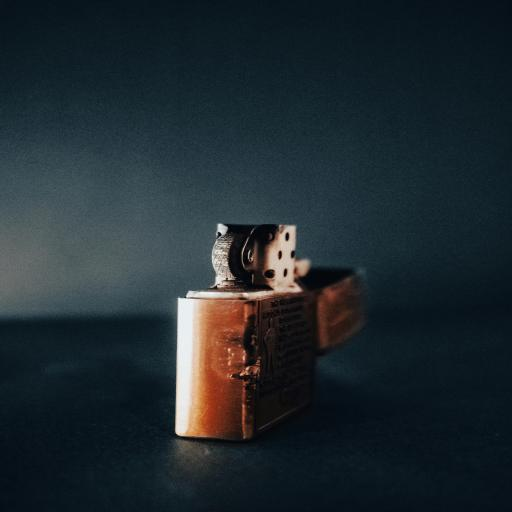lighter: (163, 202, 387, 454)
